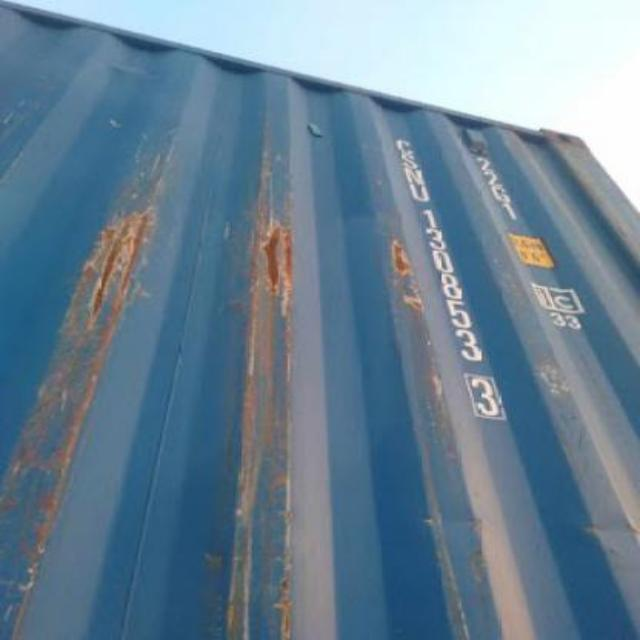0: (426, 247, 459, 273)
1: (420, 204, 440, 226)
3: (460, 368, 506, 422), (450, 330, 490, 364), (424, 225, 448, 248)
5: (434, 296, 480, 328)
8: (428, 272, 472, 298)
C: (394, 129, 416, 155)
N: (398, 162, 430, 184)
S: (398, 152, 419, 166)
U: (410, 180, 430, 204)
